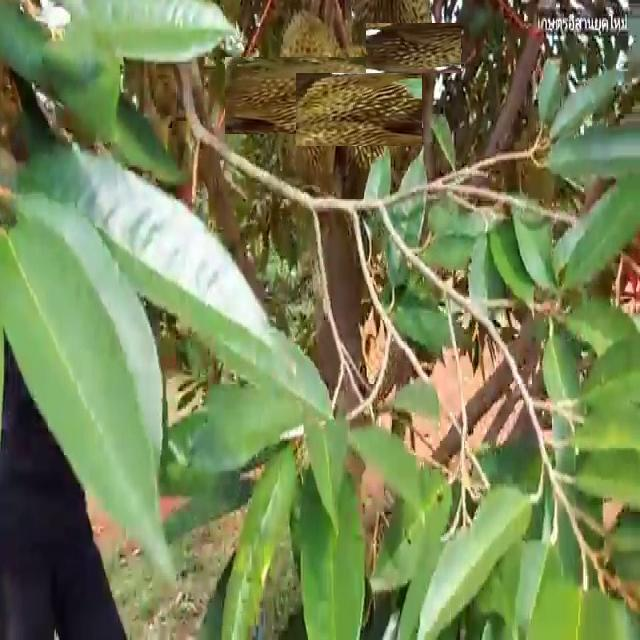durian: (248, 32, 374, 159), (309, 59, 409, 159), (376, 12, 450, 84)
